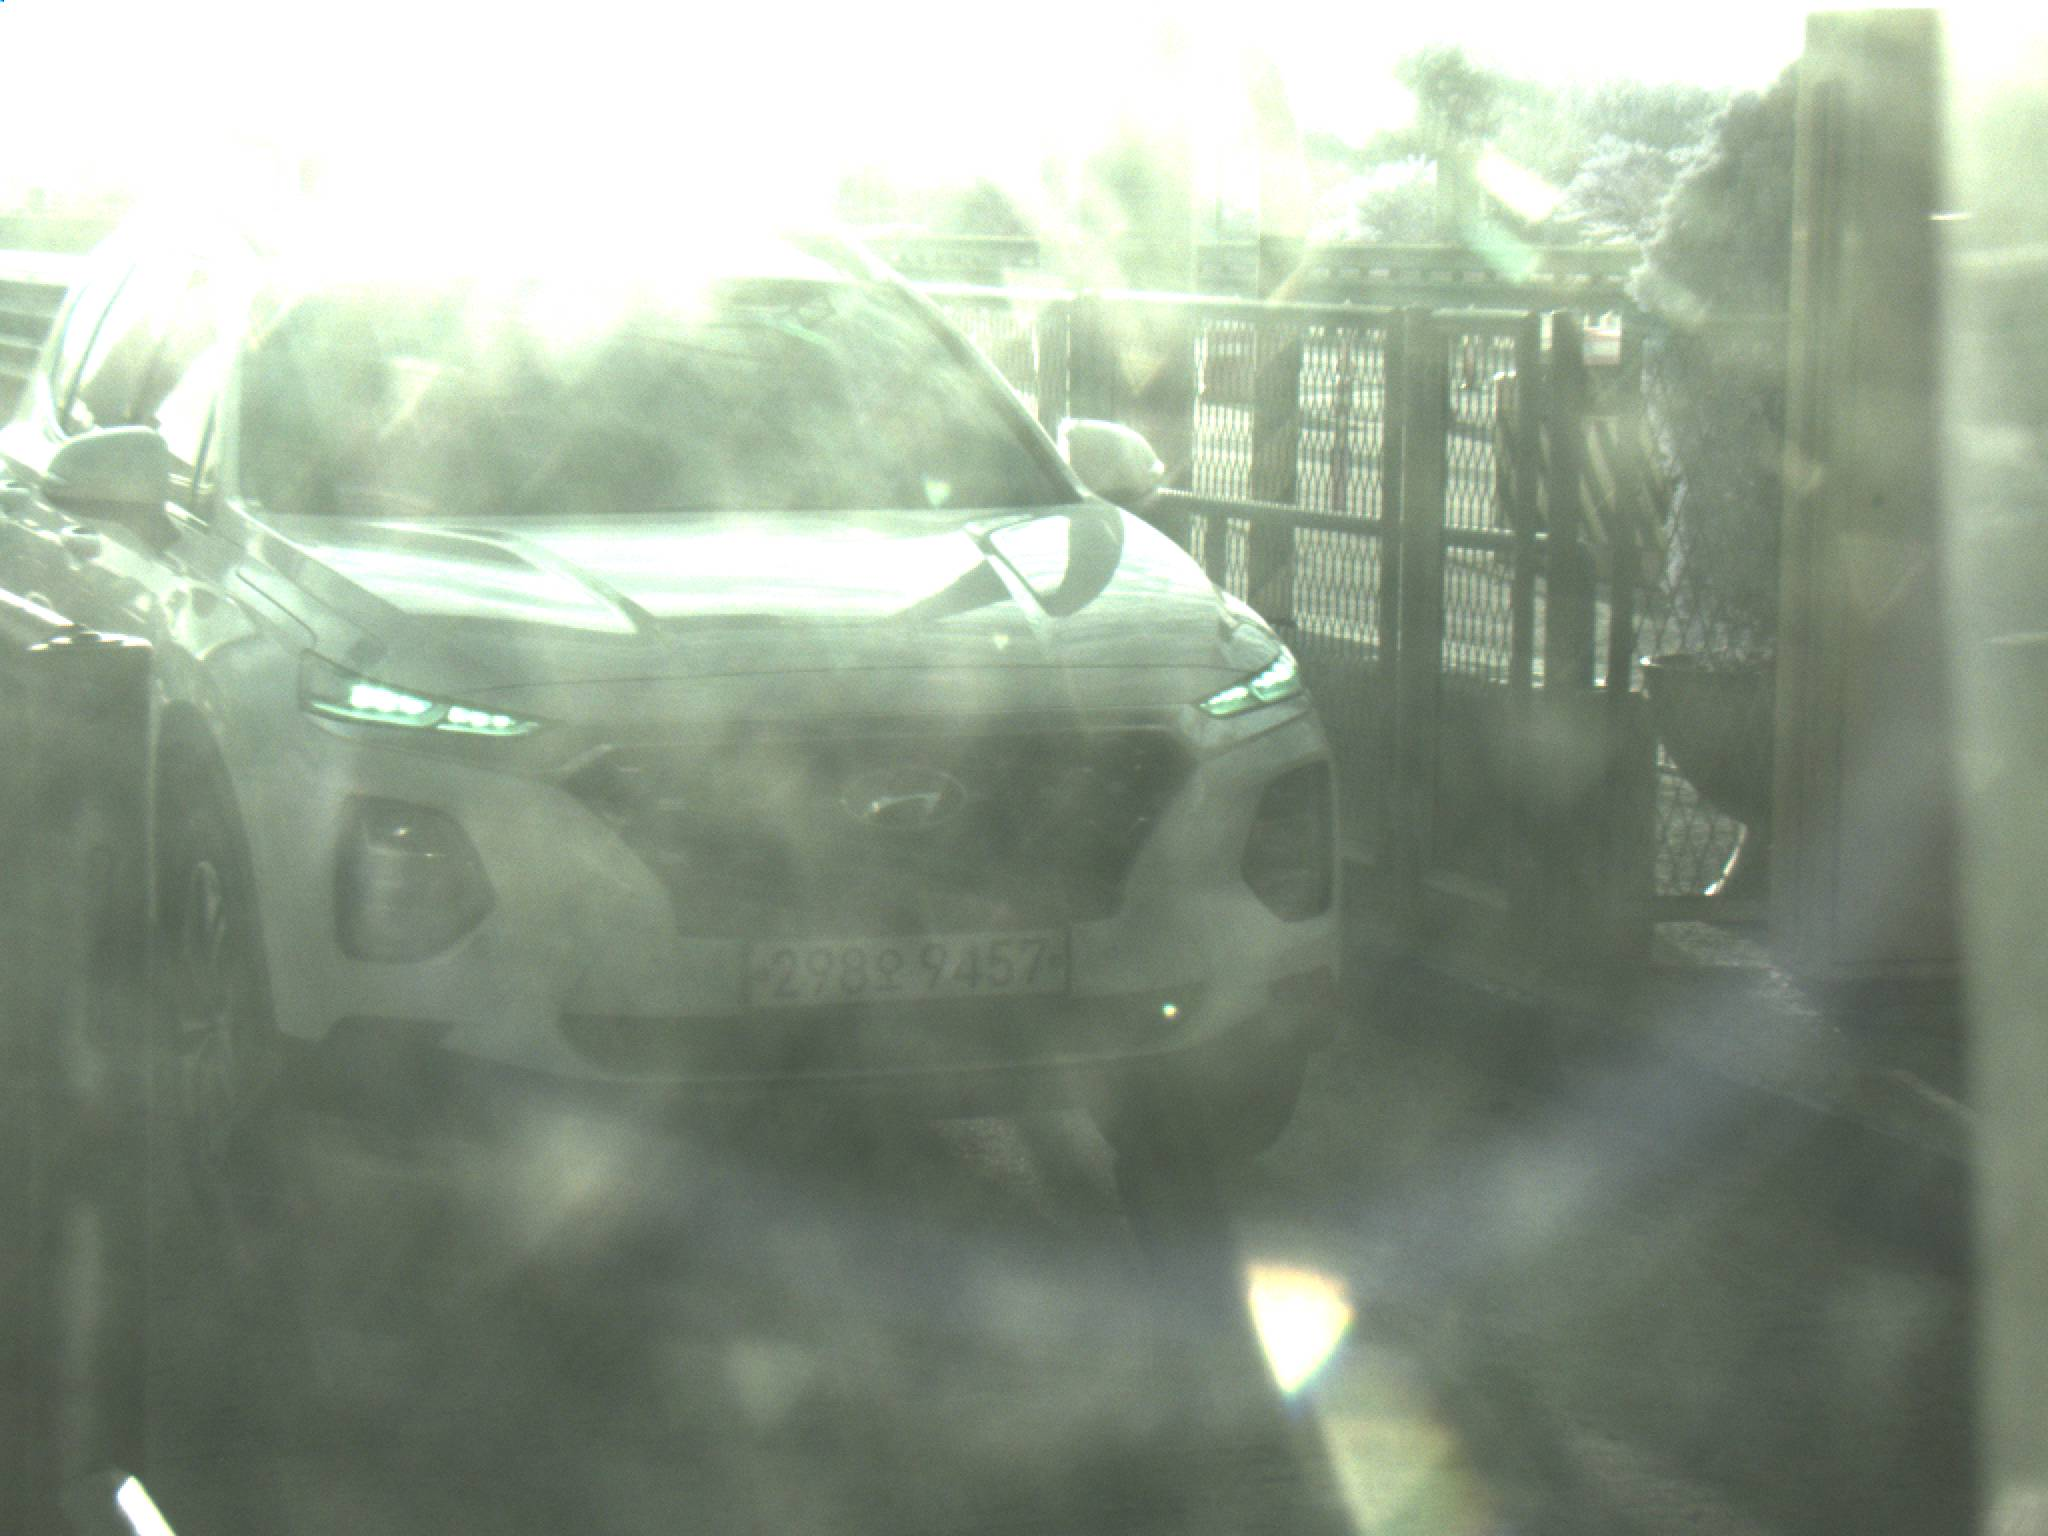car: (1, 183, 1357, 1198)
plate: (736, 917, 1074, 1015)
